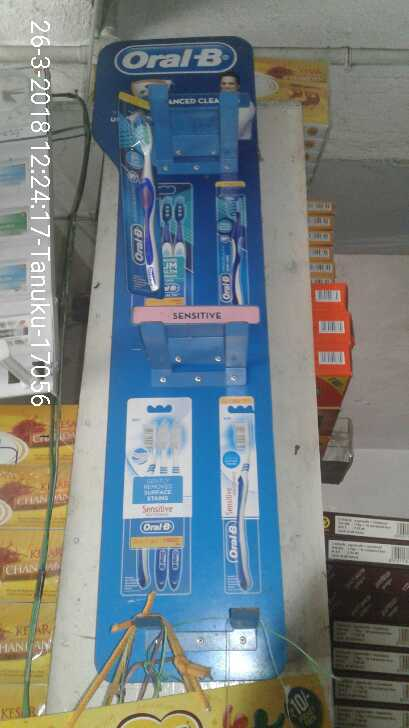oralb: (116, 102, 170, 311)
